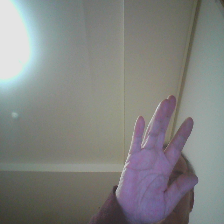hand: (108, 89, 201, 223)
